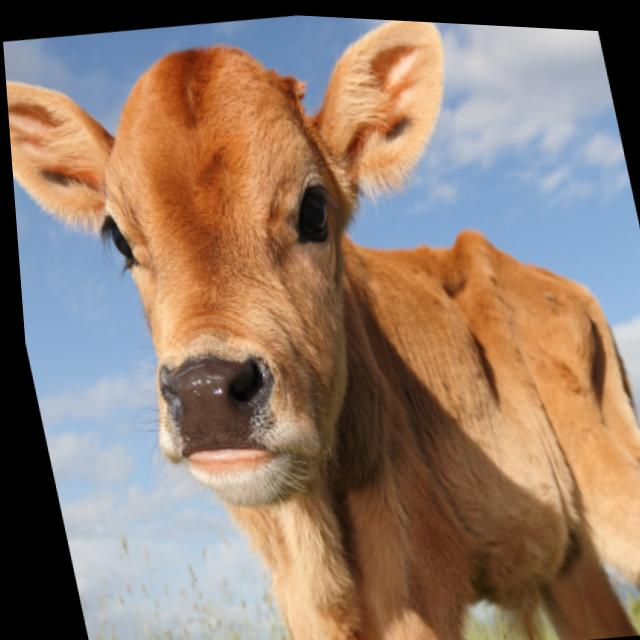cowFace: (0, 0, 541, 551)
